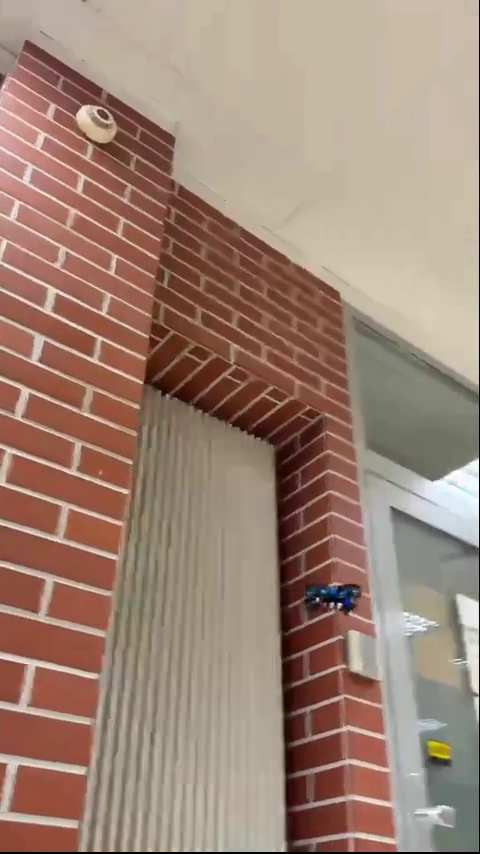drone: (303, 582, 361, 621)
